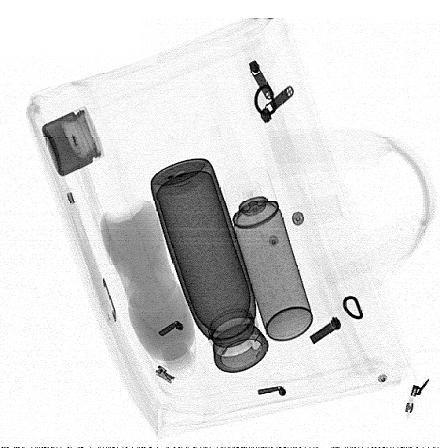Sprayer: (224, 168, 313, 341)
